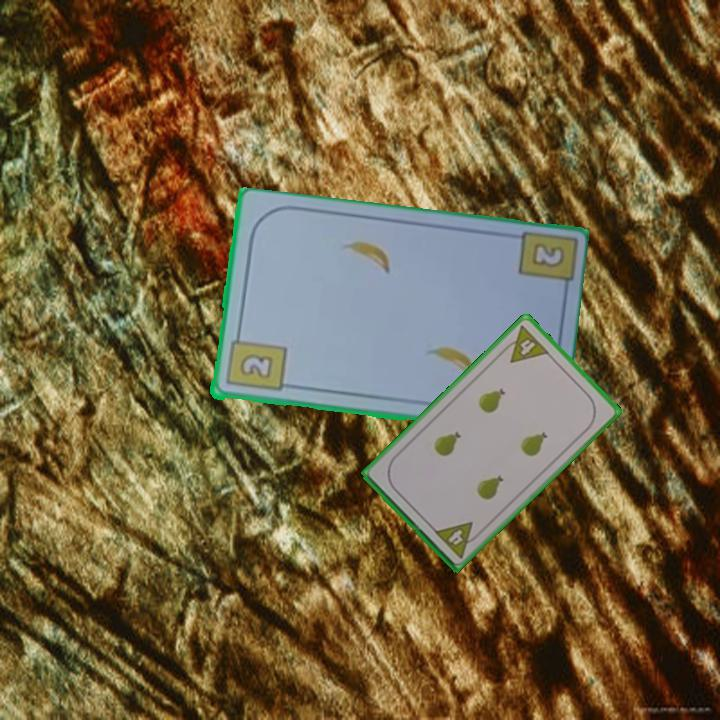2b: (222, 328, 288, 395), (532, 243, 564, 269)
4p: (497, 321, 552, 366), (430, 518, 484, 561)
